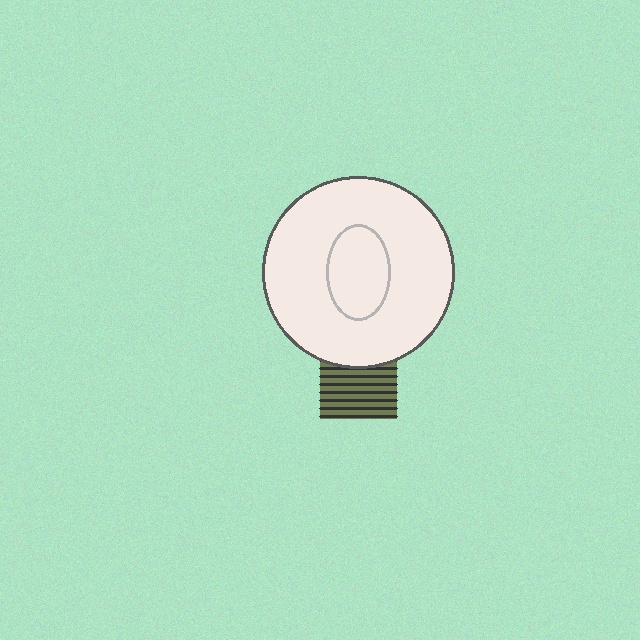bulb: (258, 172, 458, 423)
